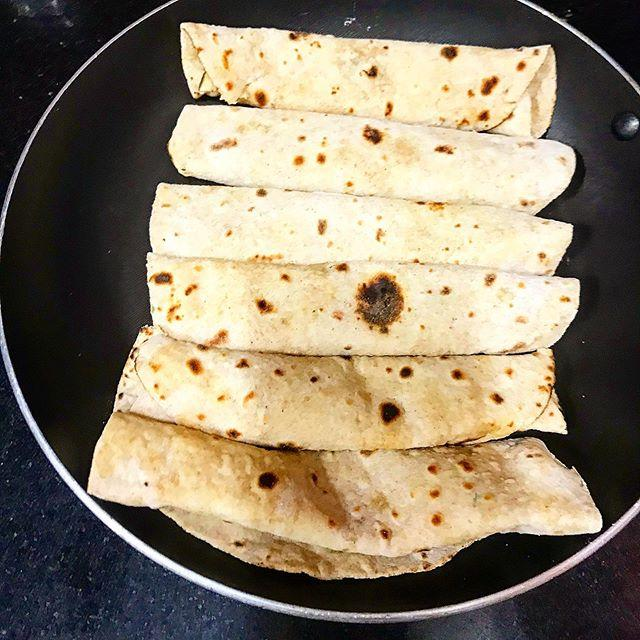Roti: (69, 432, 600, 540), (95, 332, 594, 439), (105, 180, 594, 274), (121, 261, 612, 348), (162, 22, 577, 121), (96, 112, 598, 186)
